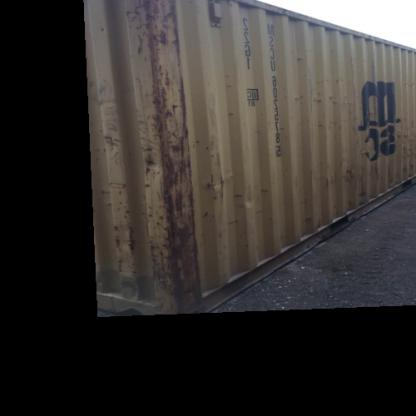Damage: (94, 0, 194, 313), (202, 135, 227, 248), (231, 176, 279, 216), (283, 80, 339, 110), (320, 160, 390, 178), (287, 46, 309, 64)
